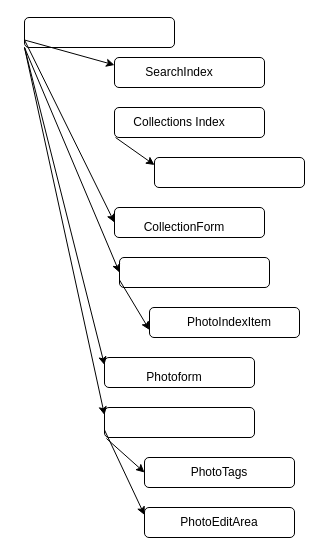
The diagram is 322 pixels wide and 555 high, and some of its shapes have lost their labels. The shapes that lost their labels are listed below. From the top down, each one's box as (x1, y1, x2, y2) in pixels, then its label:
(24, 16, 174, 48): App
(154, 156, 304, 188): CollectionIndexItem
(118, 256, 270, 288): PhotosIndex - indexroute
(104, 406, 254, 438): PhotoDetail
